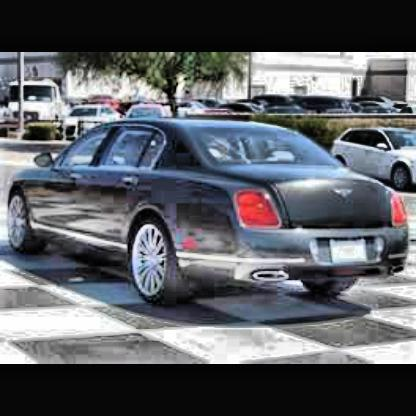Bentley Continental Flying Spur Sedan 2007: (8, 110, 416, 319)
